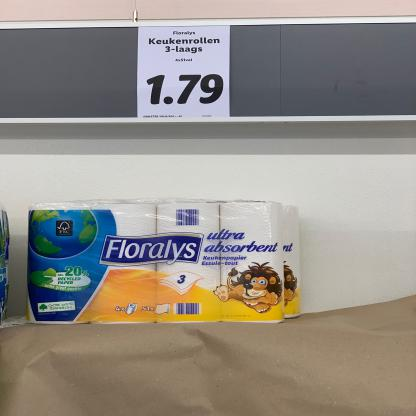prtg: (138, 27, 231, 119)
